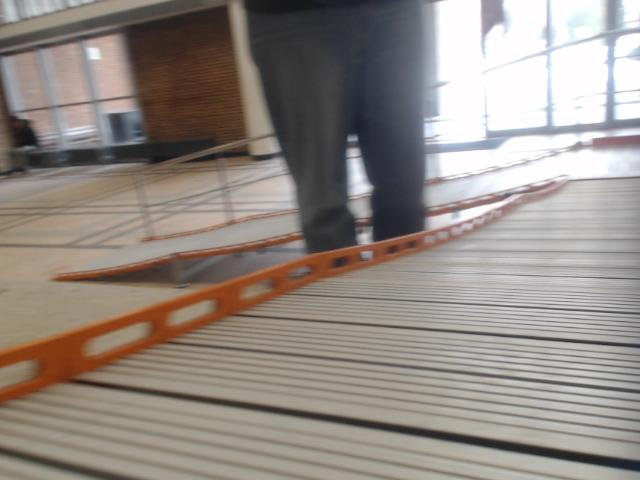rampDown: (0, 136, 639, 479), (61, 210, 300, 278), (350, 195, 369, 224)
ramps-railing: (128, 129, 272, 236), (171, 172, 289, 201)
